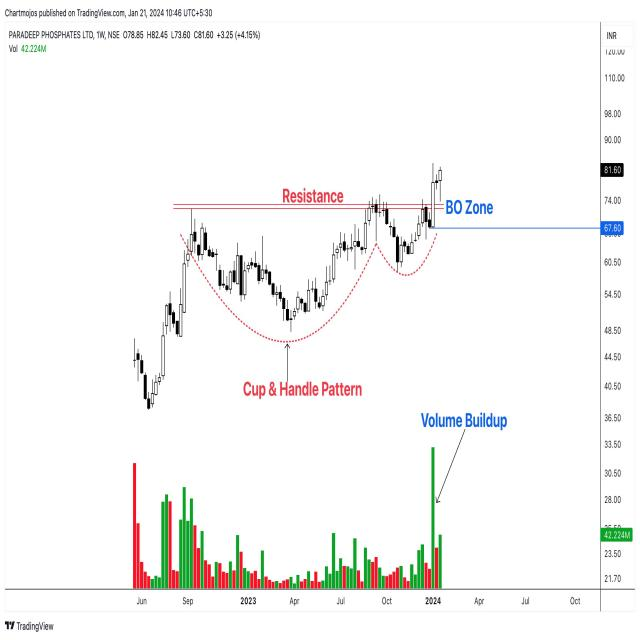Cup-and-handle: (188, 211, 444, 333)
